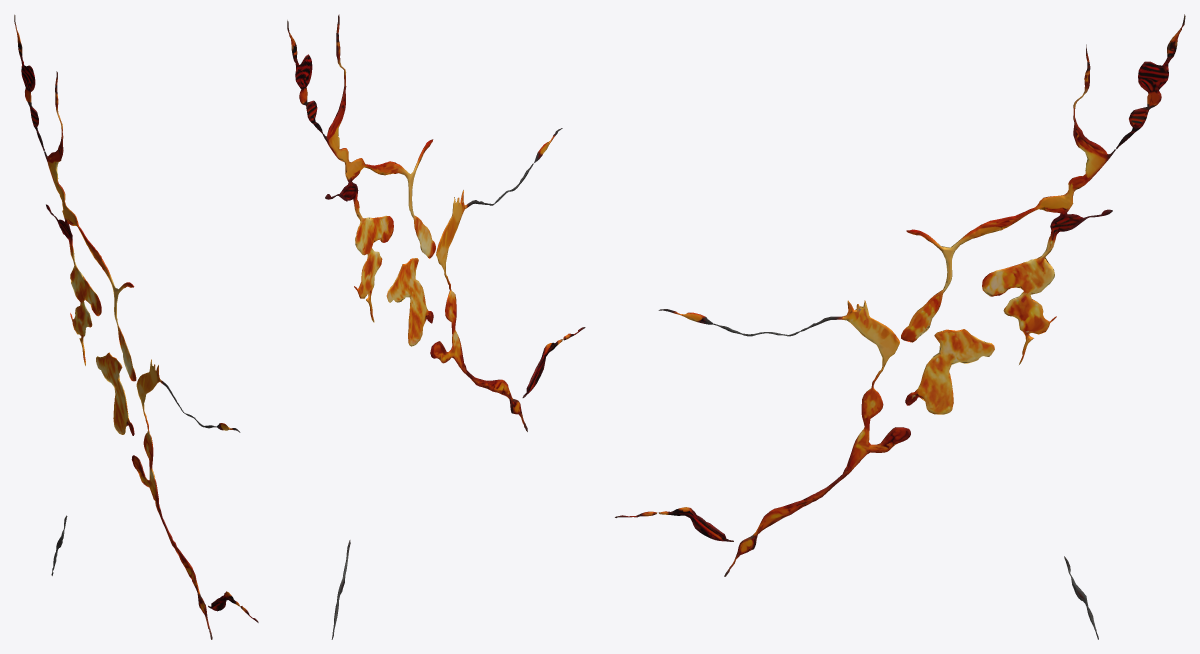
Rendered from lava+rock+texture+3d+model.obj.
3 views of the same model, side by side, from view 1: azimuth 30°, elevation 25°; view 2: azimuth 150°, elevation 25°; view 3: azimuth 270°, elevation 25° (orthographic). The views are drawn at different scales.
Parts seen in each view (by area): view 1: tripo_node_91e3da7e-76d6-4b60-8dbe-18cd448d5fea; view 2: tripo_node_91e3da7e-76d6-4b60-8dbe-18cd448d5fea; view 3: tripo_node_91e3da7e-76d6-4b60-8dbe-18cd448d5fea.
Part boxes in pixels (x1=…): tripo_node_91e3da7e-76d6-4b60-8dbe-18cd448d5fea: x1=14, y1=14, x2=258, y2=639; tripo_node_91e3da7e-76d6-4b60-8dbe-18cd448d5fea: x1=287, y1=14, x2=585, y2=639; tripo_node_91e3da7e-76d6-4b60-8dbe-18cd448d5fea: x1=615, y1=14, x2=1185, y2=639.
Size of the model in its own units: 0.00348 by 0.9969 by 0.8246.
Materials: 1 (1 with a texture image).
